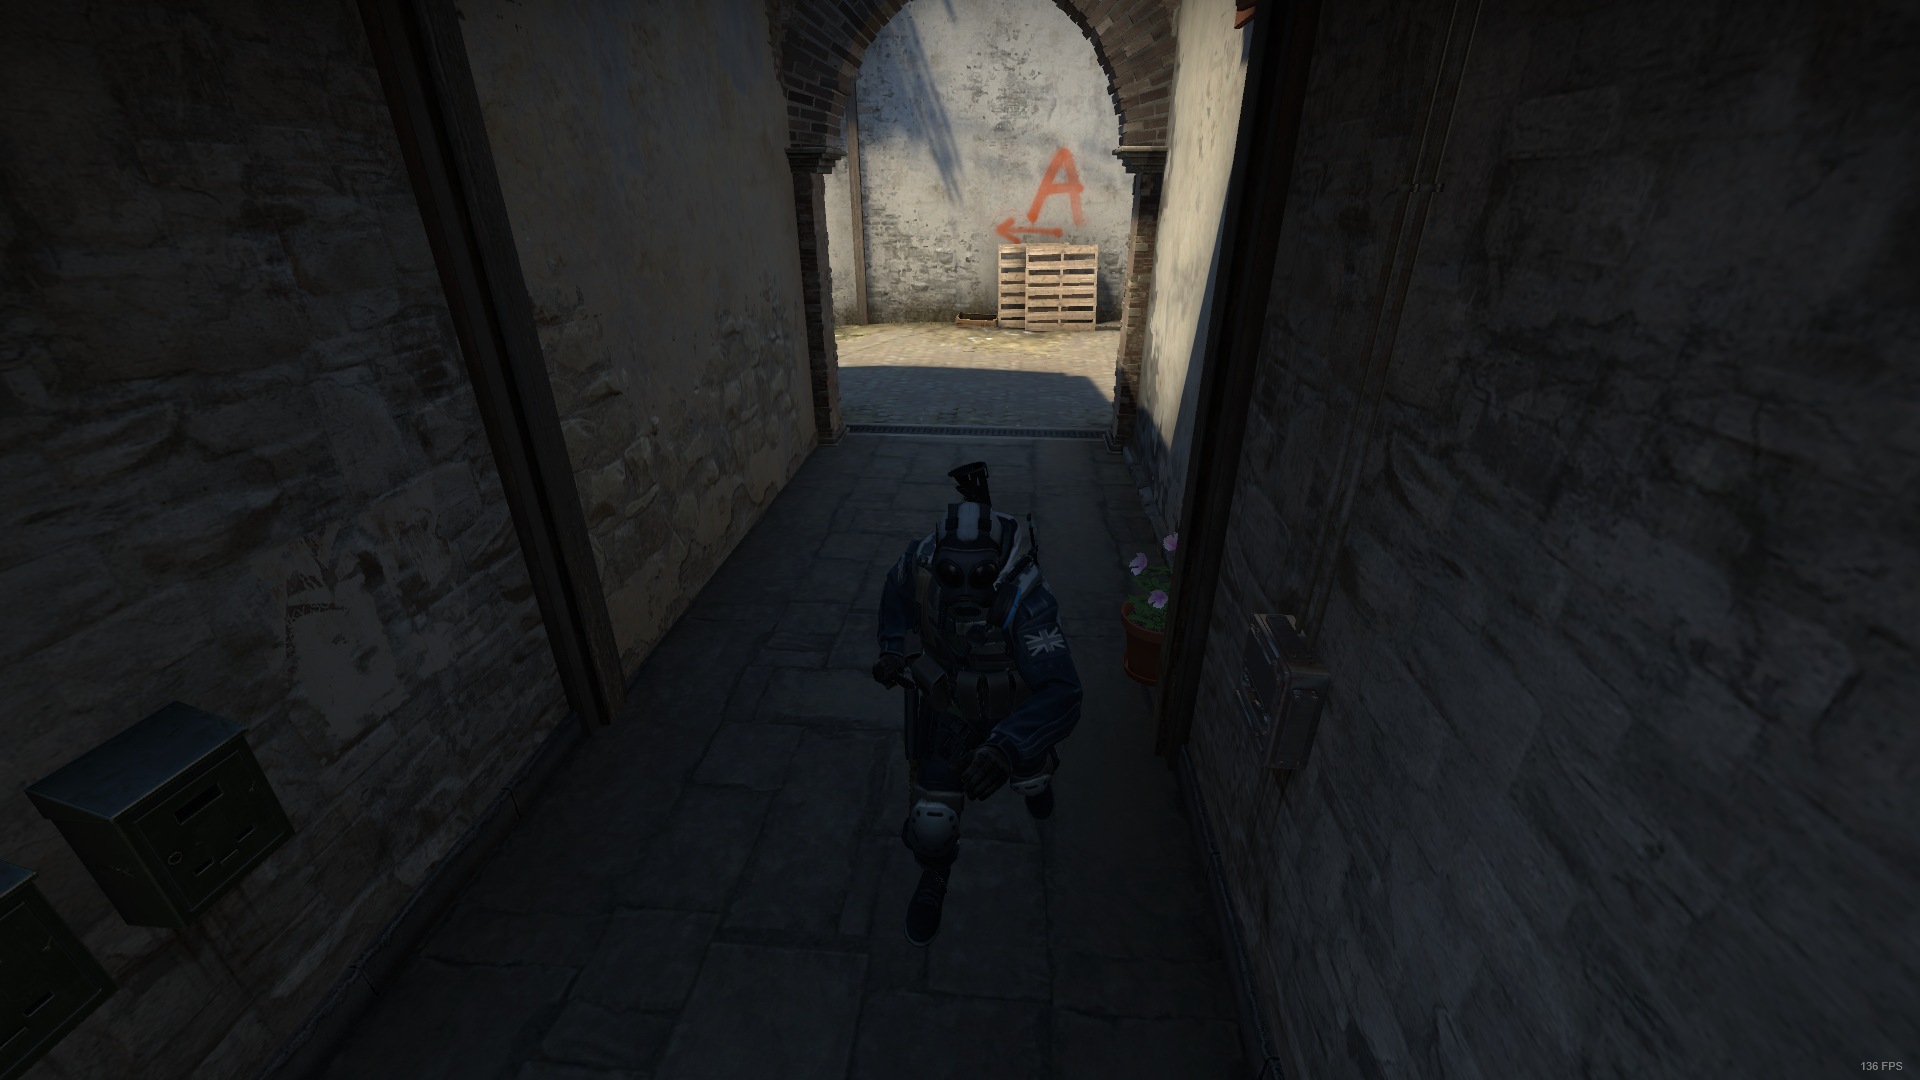ct: (872, 501, 1087, 932)
